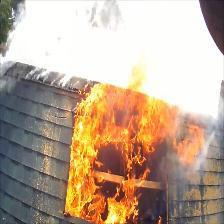fire: (56, 59, 203, 220)
